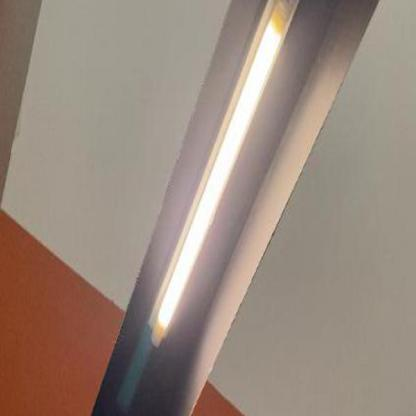light_on: (119, 0, 308, 366)
